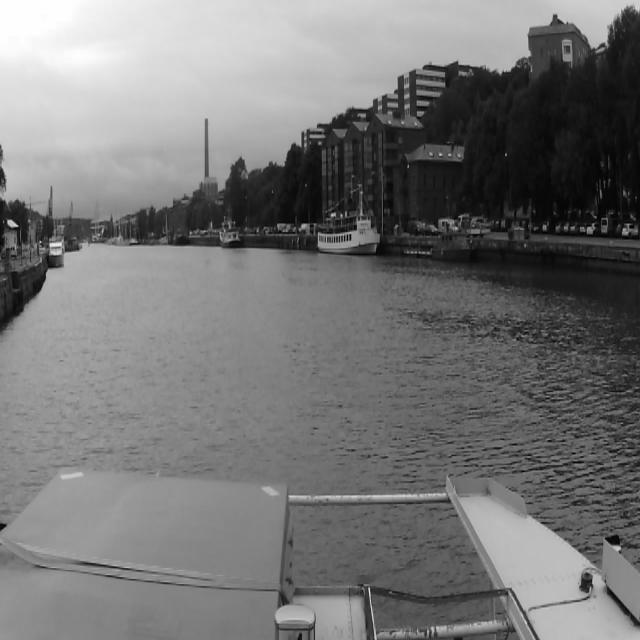ship: (318, 206, 380, 255), (433, 230, 474, 260), (221, 218, 241, 246), (48, 241, 64, 267), (64, 239, 80, 250)
